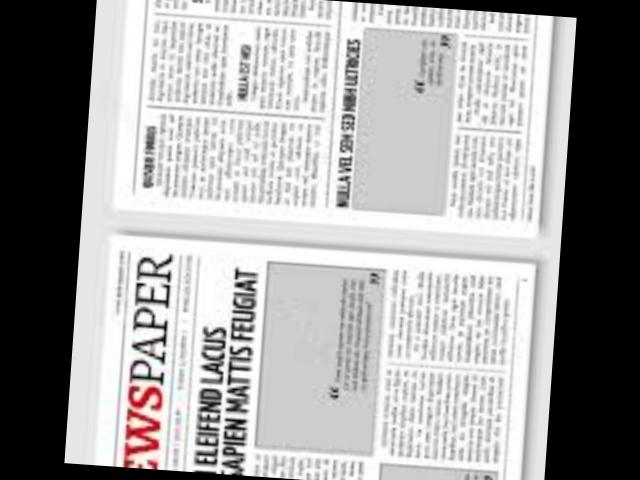cardboard paper: (92, 241, 528, 480), (113, 0, 548, 238)
